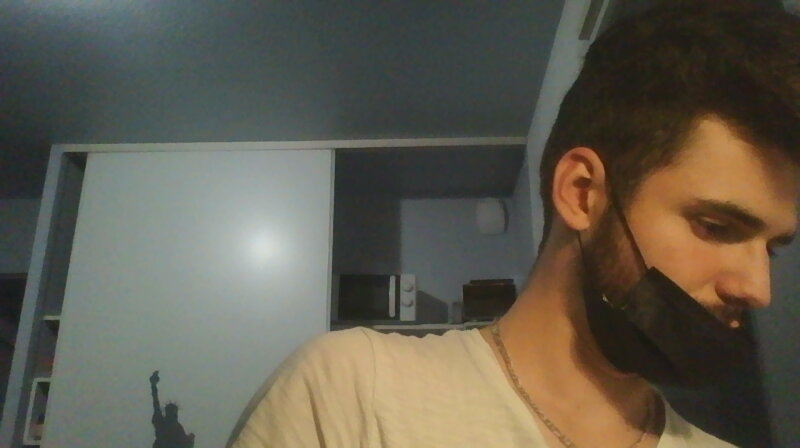with_incorrect_mask: (618, 109, 795, 398)
